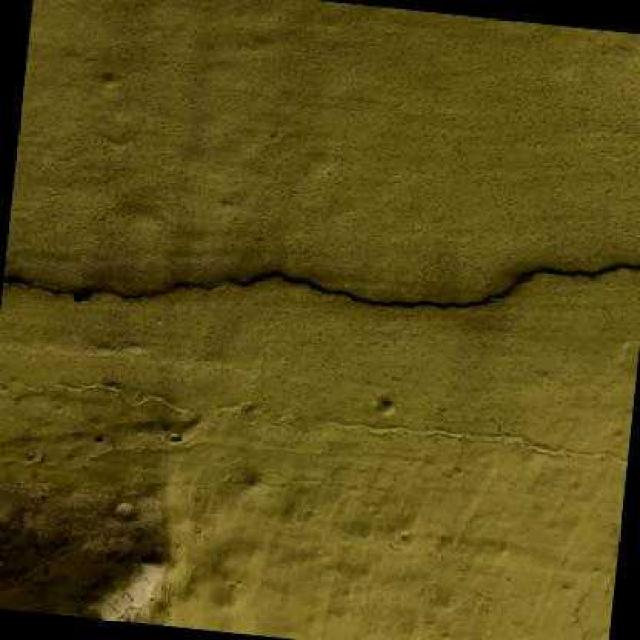D00: (2, 261, 640, 310)
